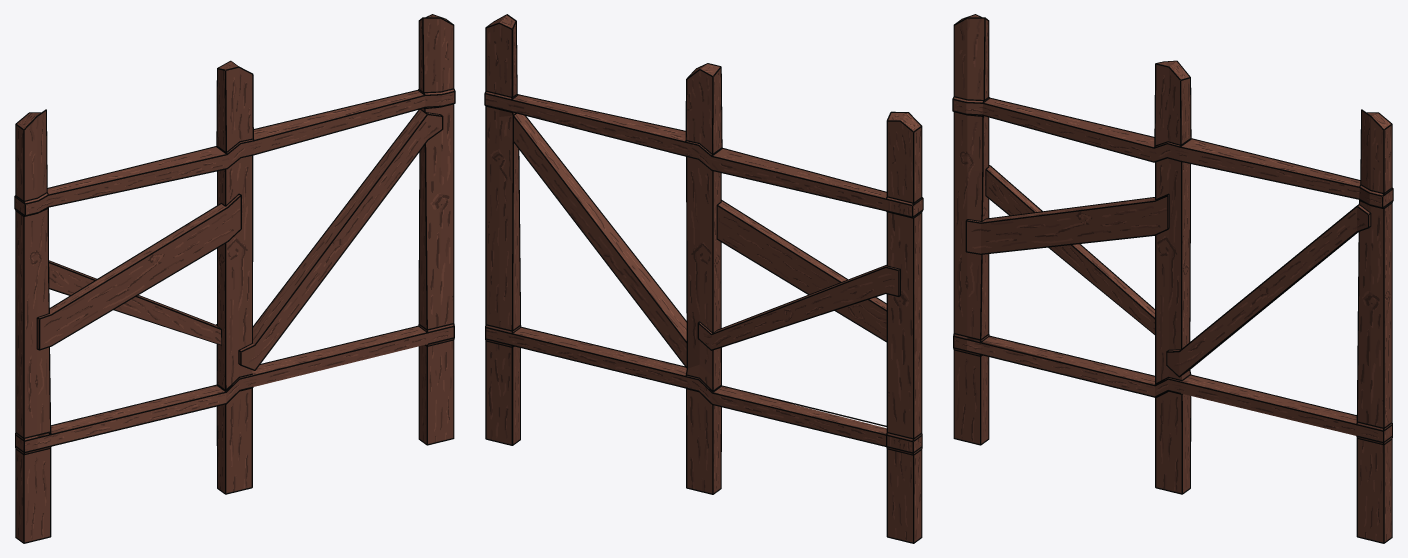
The model's file is fence.glb.
3 views of the same model, side by side, from view 1: azimuth 30°, elevation 25°; view 2: azimuth 150°, elevation 25°; view 3: azimuth 330°, elevation 25° (orthographic).
Visible parts, largest first — view 1: Cube.001; view 2: Cube.001; view 3: Cube.001.
Boxes of the visible parts, <box> form: Cube.001: <box>14,14,455,543</box>; Cube.001: <box>484,14,923,543</box>; Cube.001: <box>952,14,1393,543</box>.
Size of the model in its own units: 7.17 by 6.76 by 0.3821.
Materials: 2 (1 with a texture image).
